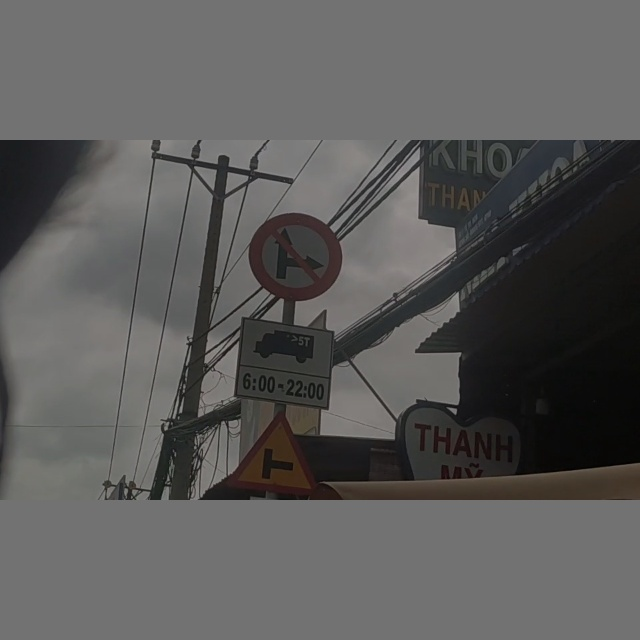P.139: (251, 211, 342, 301)
S.505a*Xe tai: (238, 316, 328, 404)
W.205b: (234, 413, 319, 490)
